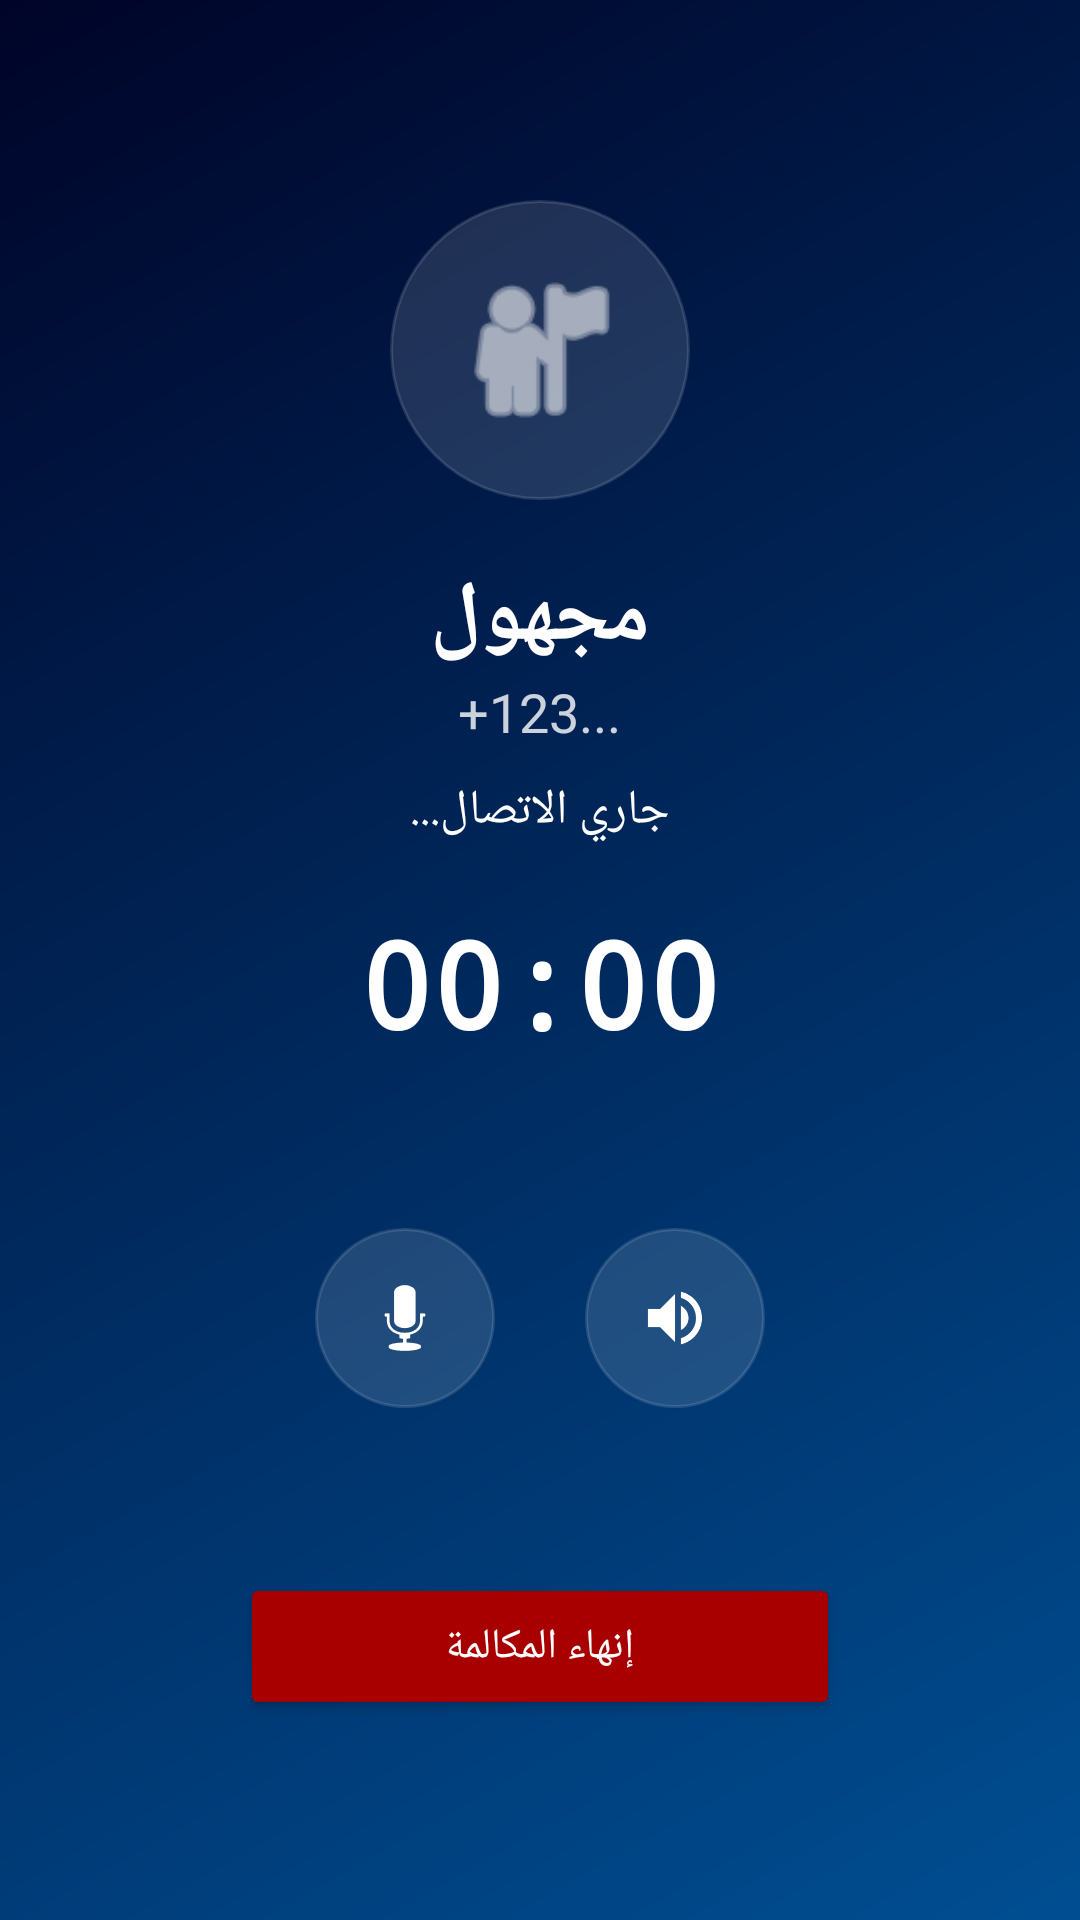

Screen size 1080*1920. Icon name, then its box in pixels as rect(x1, y1, x2, y2):
myplaces: rect(390, 200, 690, 500)
speak now: rect(315, 1228, 495, 1408)
speakerphone: rect(585, 1228, 765, 1408)
